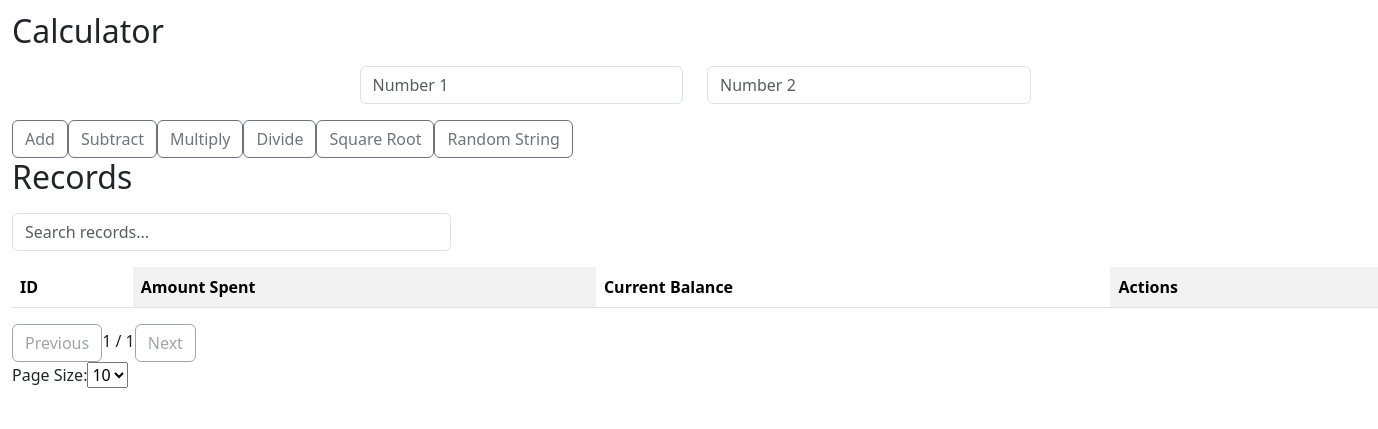
Test case: handles square root of negative number error
The width and height of the screenshot is (1378, 429).
Type "-10" into the number field with placeholder "Number 1" at (521, 85), box [360, 66, 683, 104]
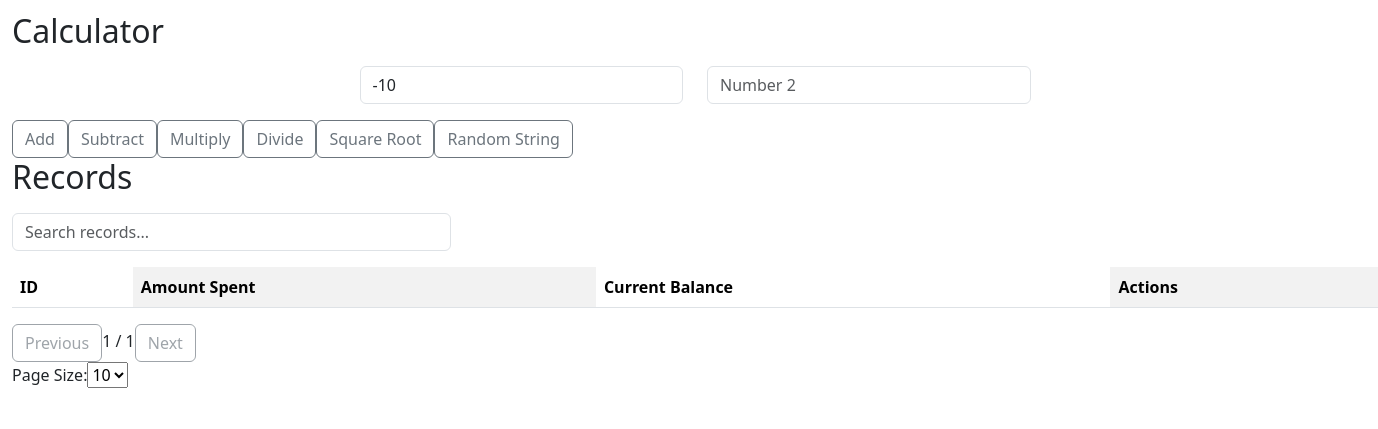
Click the button "Square Root" at (375, 139), box [316, 120, 434, 158]
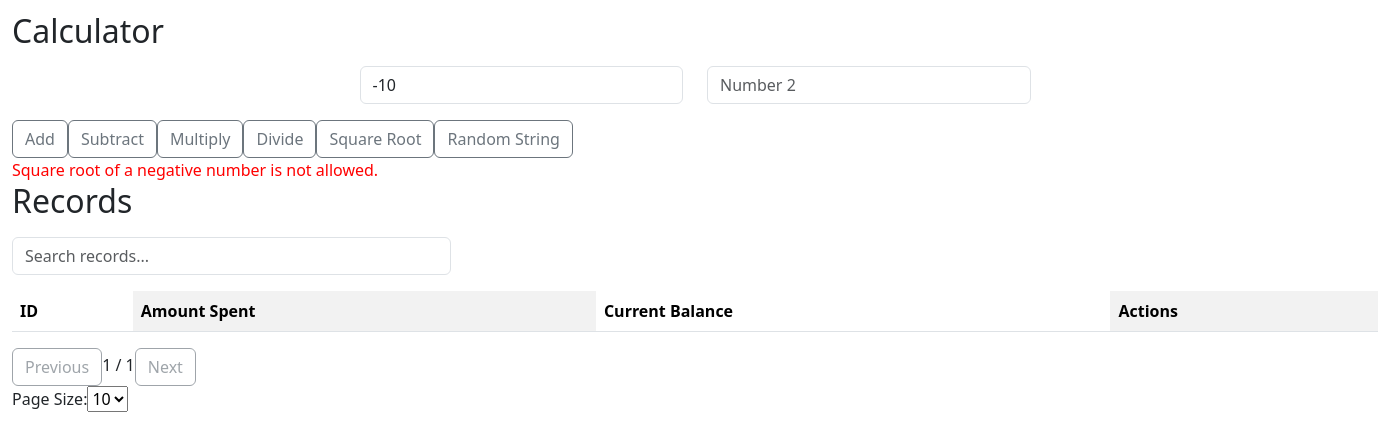
Expected: the text "Square root of a negative number is not allowed." is shown, [12, 159, 378, 181]
